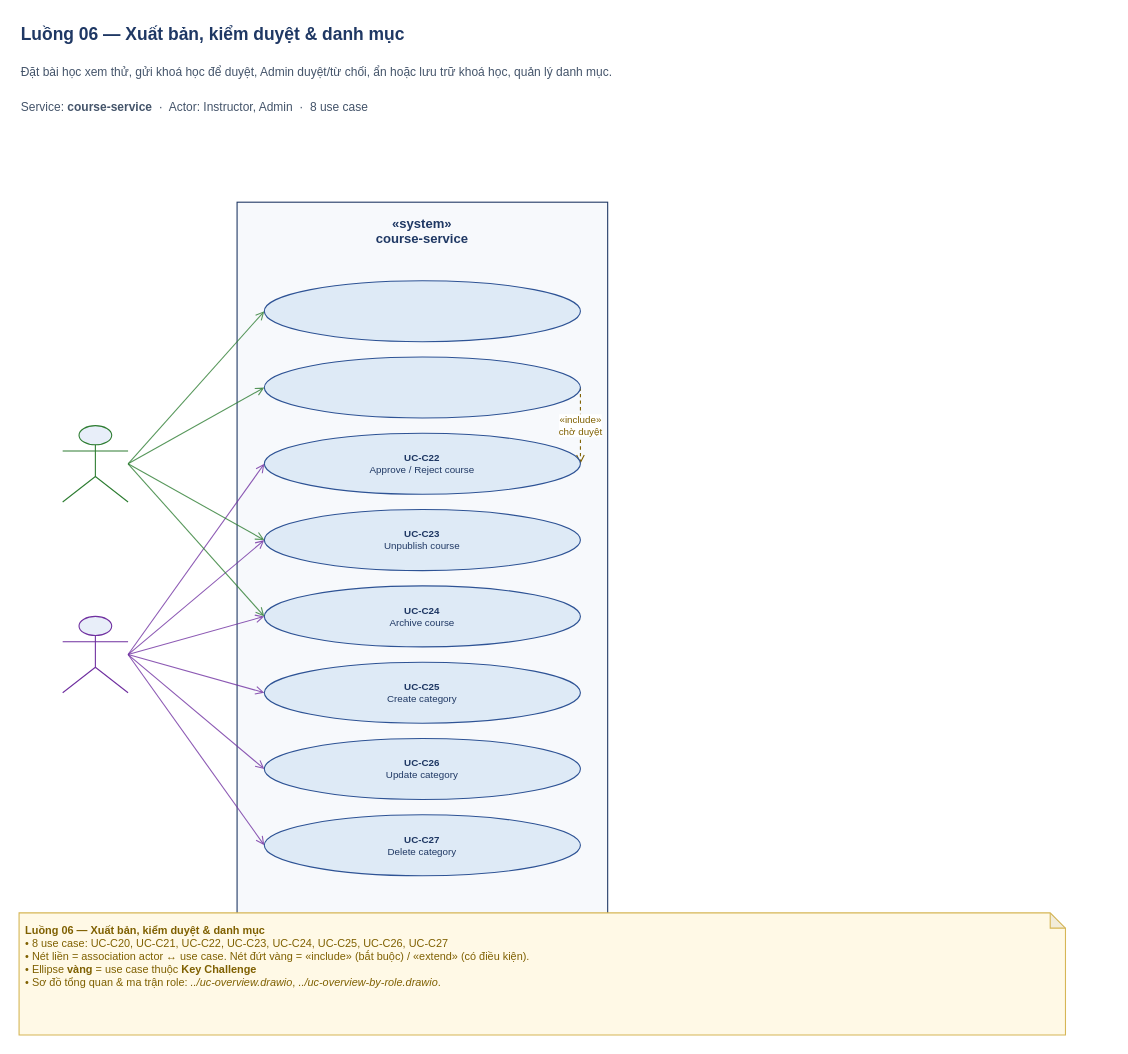
The diagram is 1128 pixels wide and 1054 high, and some of its shapes have lost their labels. Each missing label, with the centre of its shape:
"Admin" goes at (95,654).
"Instructor" goes at (95,463).
"UC-C20 Set free preview lesson" goes at (421,311).
"UC-C21 Submit course for publishing" goes at (421,387).
